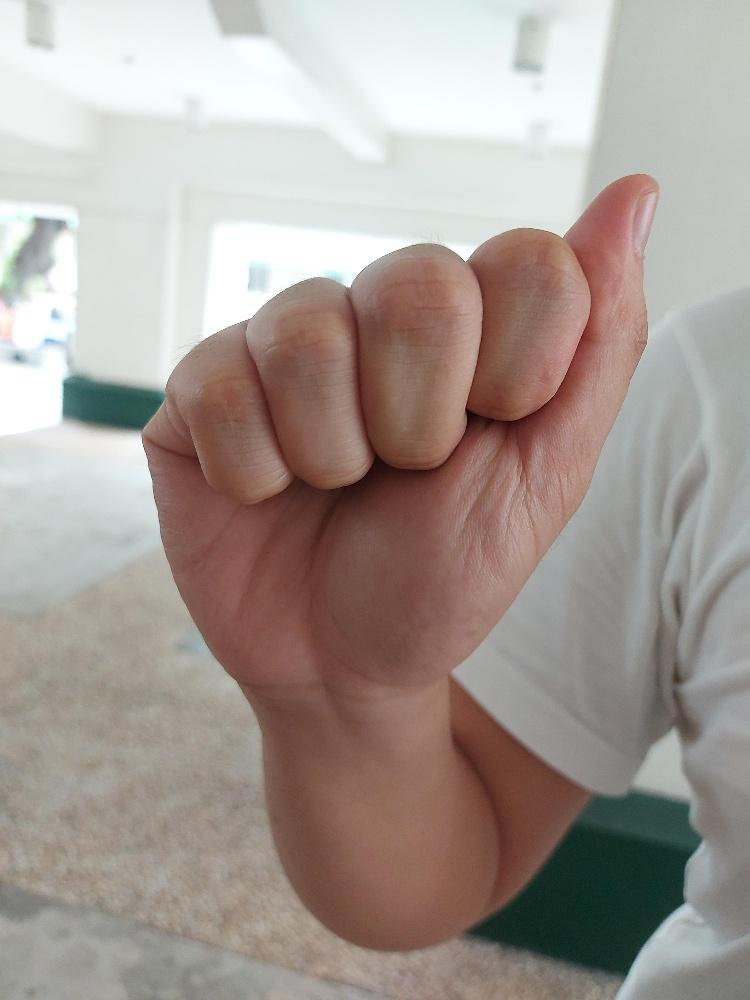a: (133, 165, 665, 694)
